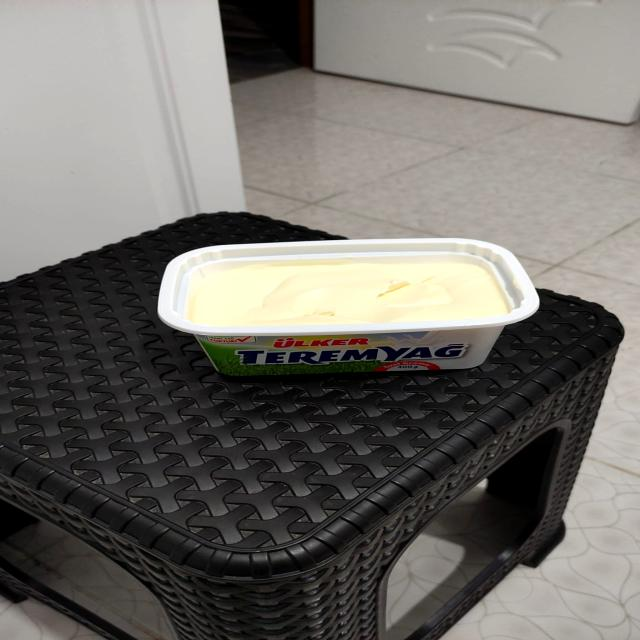margarine: (144, 229, 548, 381)
